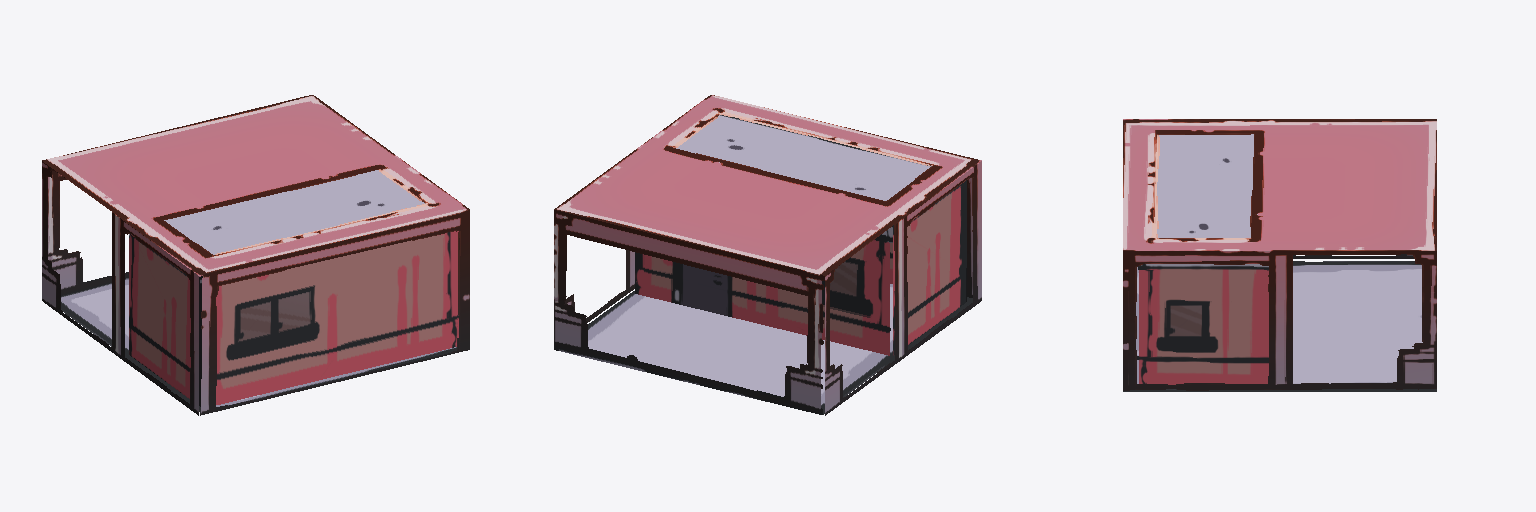
3 views of the same model, side by side, from view 1: azimuth 30°, elevation 25°; view 2: azimuth 150°, elevation 25°; view 3: azimuth 270°, elevation 25° (orthographic).
Visible parts, largest first — view 1: Cube.001_Cube.002, Cube_Cube.001; view 2: Cube.001_Cube.002, Cube_Cube.001; view 3: Cube.001_Cube.002, Cube_Cube.001.
Boxes of the visible parts, x1=… form: Cube.001_Cube.002: x1=42, y1=95, x2=469, y2=415; Cube_Cube.001: x1=129, y1=170, x2=458, y2=406; Cube.001_Cube.002: x1=554, y1=95, x2=981, y2=415; Cube_Cube.001: x1=635, y1=115, x2=966, y2=355; Cube.001_Cube.002: x1=1123, y1=119, x2=1436, y2=391; Cube_Cube.001: x1=1137, y1=134, x2=1268, y2=384.
Bounding box in the file's own units: 4.23 × 2.11 × 4.25.
Materials: 2 (2 with a texture image).